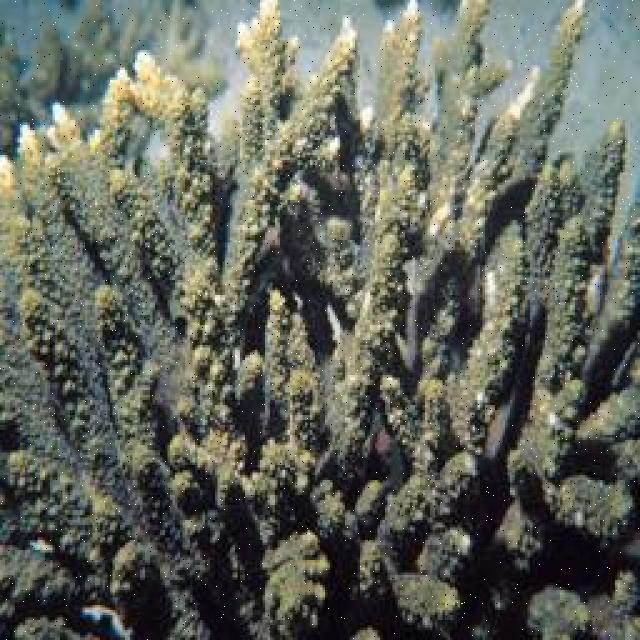reefs: (0, 0, 638, 638), (0, 0, 229, 158)
